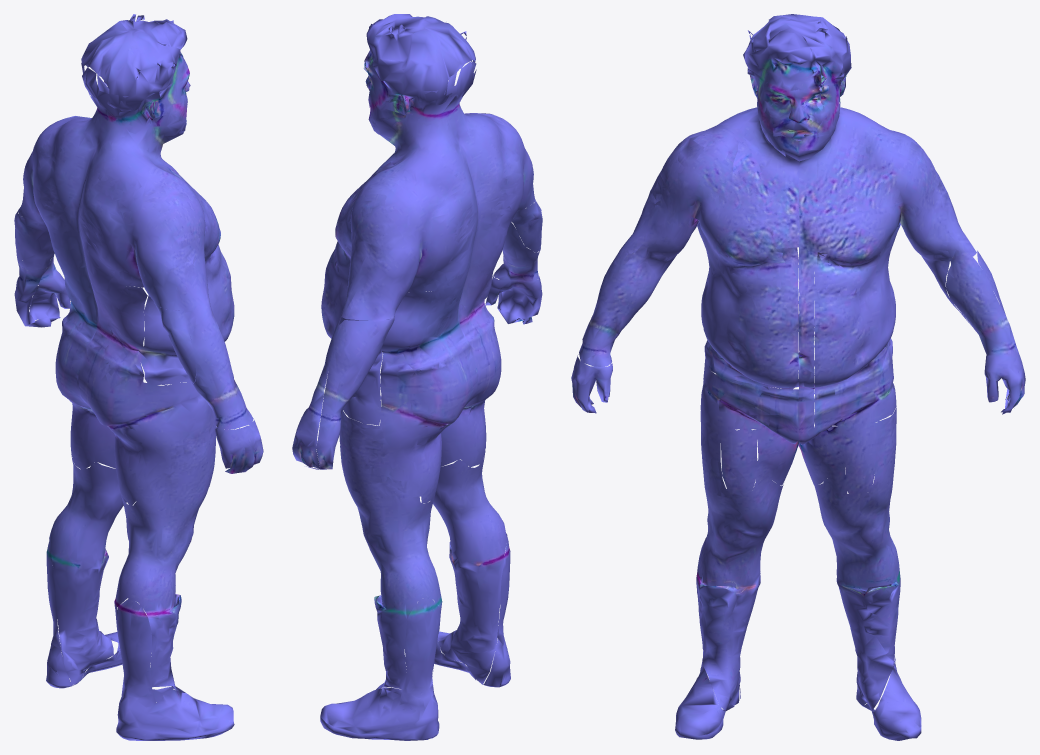
The model's file is CODY_gear_rigready.glb.
3 renders of one model, left to right at view 1: azimuth 30°, elevation 25°; view 2: azimuth 150°, elevation 25°; view 3: azimuth 270°, elevation 25°, orthographic. The views are drawn at different scales.
Visible parts, largest first — view 1: chest, hipL, pelvis, knL, shL, knR, elL, head, ftL, hipR, ftR, shR (+1 smaller); view 2: chest, hipR, shR, pelvis, knR, knL, head, ftR, elR, hipL, ftL, elL (+1 smaller); view 3: chest, elL, elR, shR, knL, knR, shL, head, pelvis, hipL, hipR, ftL (+3 smaller).
Part boxes in pixels (left/top/right/bottom): chest: left=25, top=67, right=220, bottom=312; hipL: left=100, top=286, right=263, bottom=502; pelvis: left=55, top=256, right=215, bottom=505; knL: left=114, top=432, right=215, bottom=692; shL: left=92, top=74, right=223, bottom=333; knR: left=49, top=454, right=126, bottom=684; elL: left=138, top=202, right=253, bottom=429; head: left=81, top=14, right=189, bottom=136; ftL: left=116, top=598, right=234, bottom=740; hipR: left=14, top=211, right=89, bottom=460; ftR: left=46, top=540, right=122, bottom=688; shR: left=18, top=63, right=96, bottom=277; chest: left=335, top=61, right=530, bottom=312; hipR: left=306, top=291, right=455, bottom=498; shR: left=327, top=73, right=464, bottom=337; pelvis: left=340, top=253, right=501, bottom=503; knR: left=340, top=436, right=442, bottom=689; knL: left=430, top=450, right=507, bottom=684; head: left=363, top=14, right=475, bottom=133; ftR: left=320, top=597, right=439, bottom=740; elR: left=292, top=225, right=382, bottom=468; hipL: left=468, top=200, right=542, bottom=457; ftL: left=434, top=537, right=510, bottom=687; elL: left=493, top=223, right=540, bottom=281; chest: left=677, top=68, right=925, bottom=327; elL: left=579, top=183, right=798, bottom=389; elR: left=813, top=215, right=1025, bottom=446; shR: left=817, top=99, right=983, bottom=314; knL: left=696, top=431, right=783, bottom=710; knR: left=814, top=434, right=900, bottom=710; shL: left=614, top=106, right=785, bottom=301; head: left=743, top=14, right=851, bottom=140; pelvis: left=718, top=266, right=878, bottom=485; hipL: left=571, top=354, right=770, bottom=498; hipR: left=826, top=250, right=1009, bottom=497; ftL: left=675, top=659, right=740, bottom=739.
Bounding box in the file's own units: 0.2303 × 0.9803 × 0.572.
Materials: 1 (1 with a texture image).
